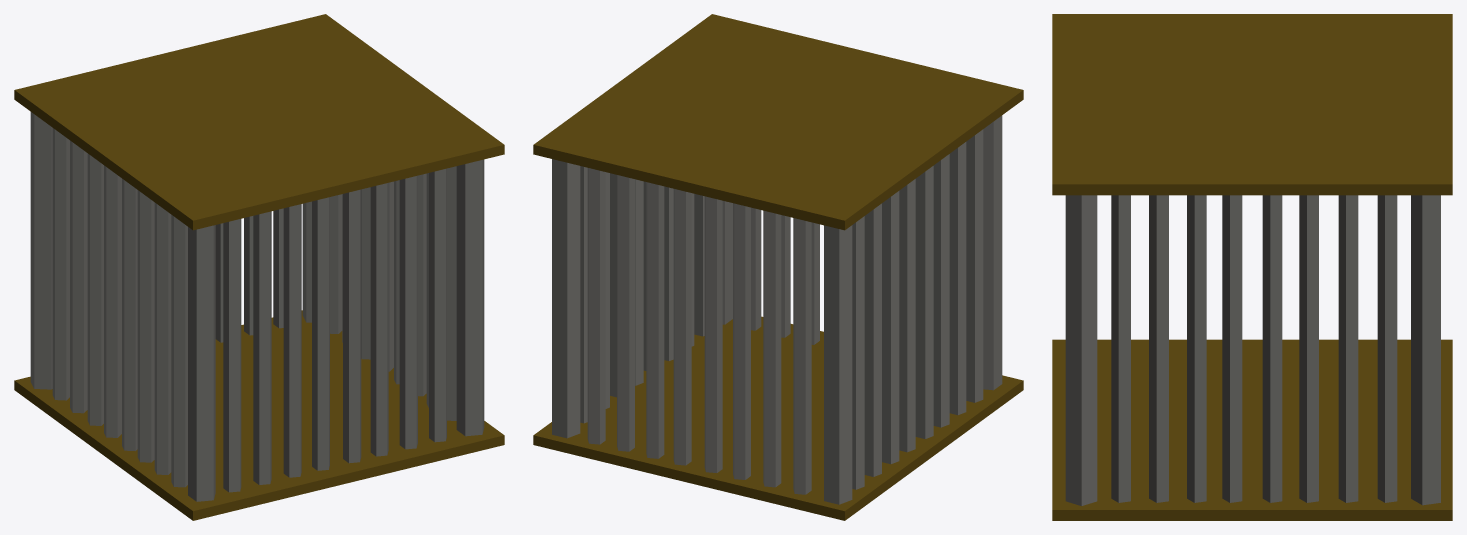
File: SM_Cage_LOD0.fbx
The picture shows the model from 3 angles, left to right: view 1: azimuth 30°, elevation 25°; view 2: azimuth 150°, elevation 25°; view 3: azimuth 270°, elevation 25°; orthographic projection. The views are drawn at different scales.
Parts seen in each view (by area): view 1: SM_Cage_LOD0; view 2: SM_Cage_LOD0; view 3: SM_Cage_LOD0.
Boxes of the visible parts, x1,y1,x2,y2 form: SM_Cage_LOD0: (14,14,504,520); SM_Cage_LOD0: (533,14,1023,520); SM_Cage_LOD0: (1052,14,1452,520).
Size of the model in its own units: 3.53 by 3.25 by 3.51.
